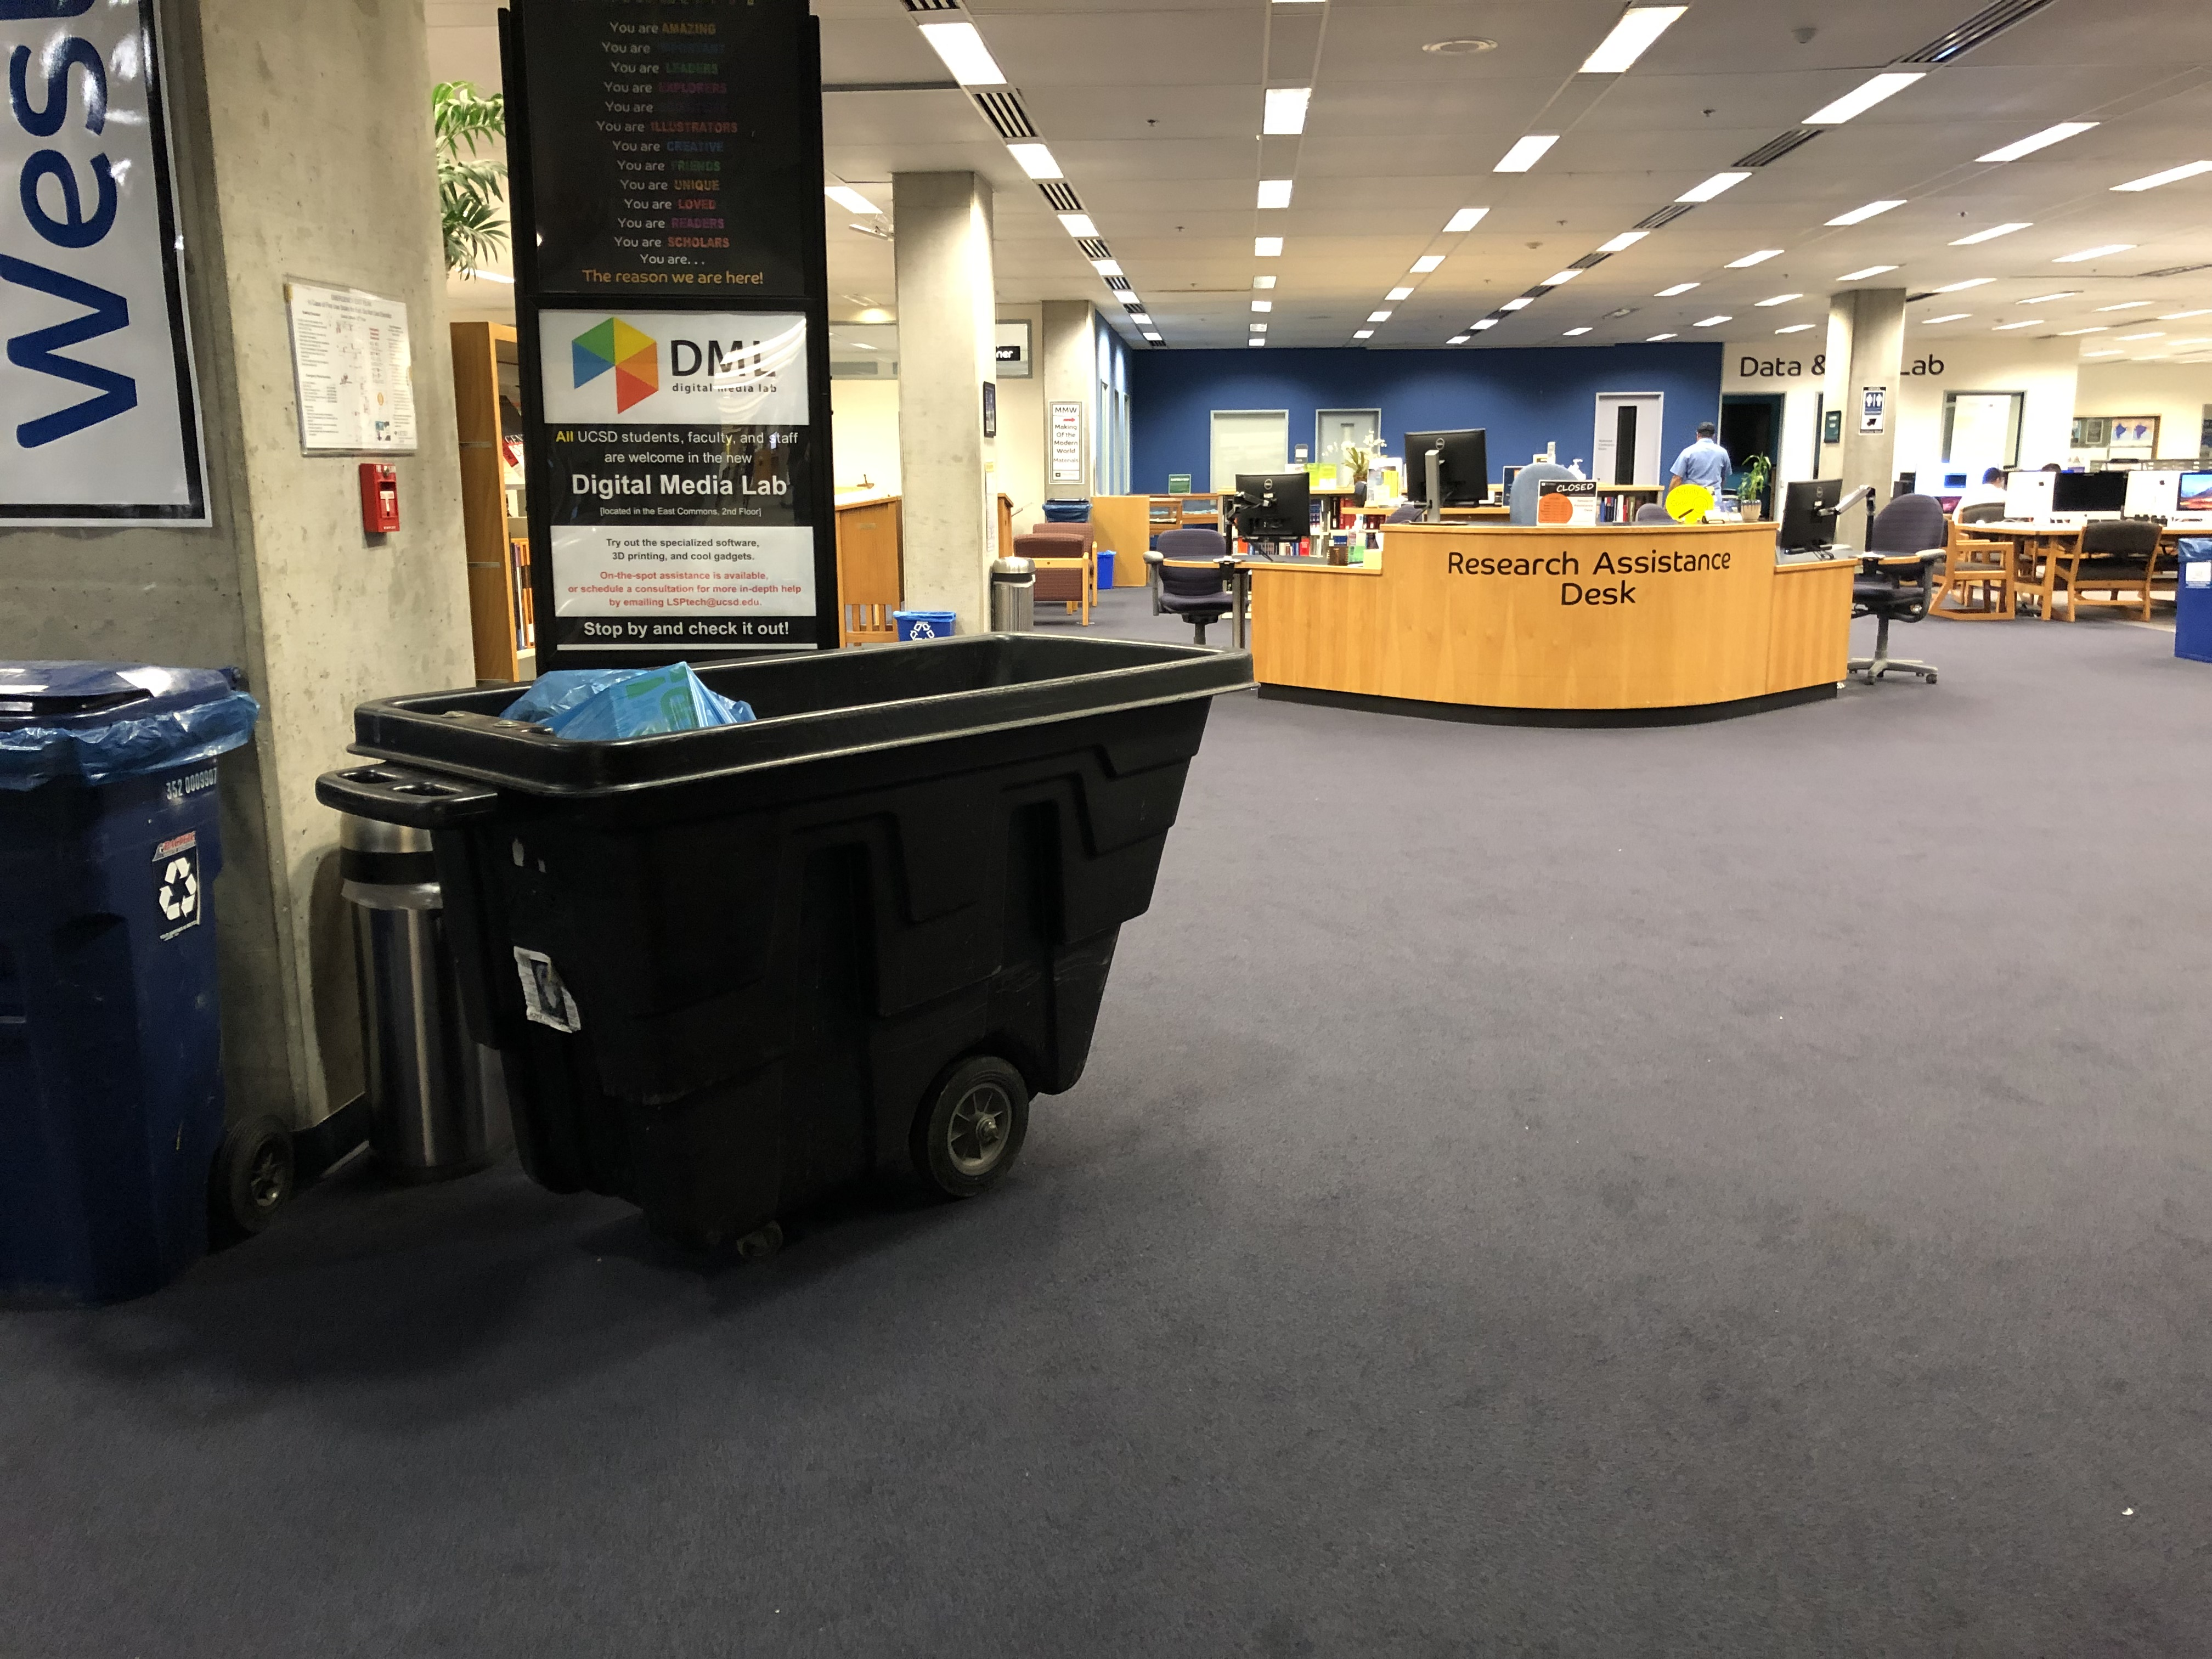Obstacle: (7, 7, 472, 1319), (312, 634, 1261, 1267), (1235, 525, 1851, 725), (1841, 505, 1954, 695), (2177, 551, 2209, 652)
